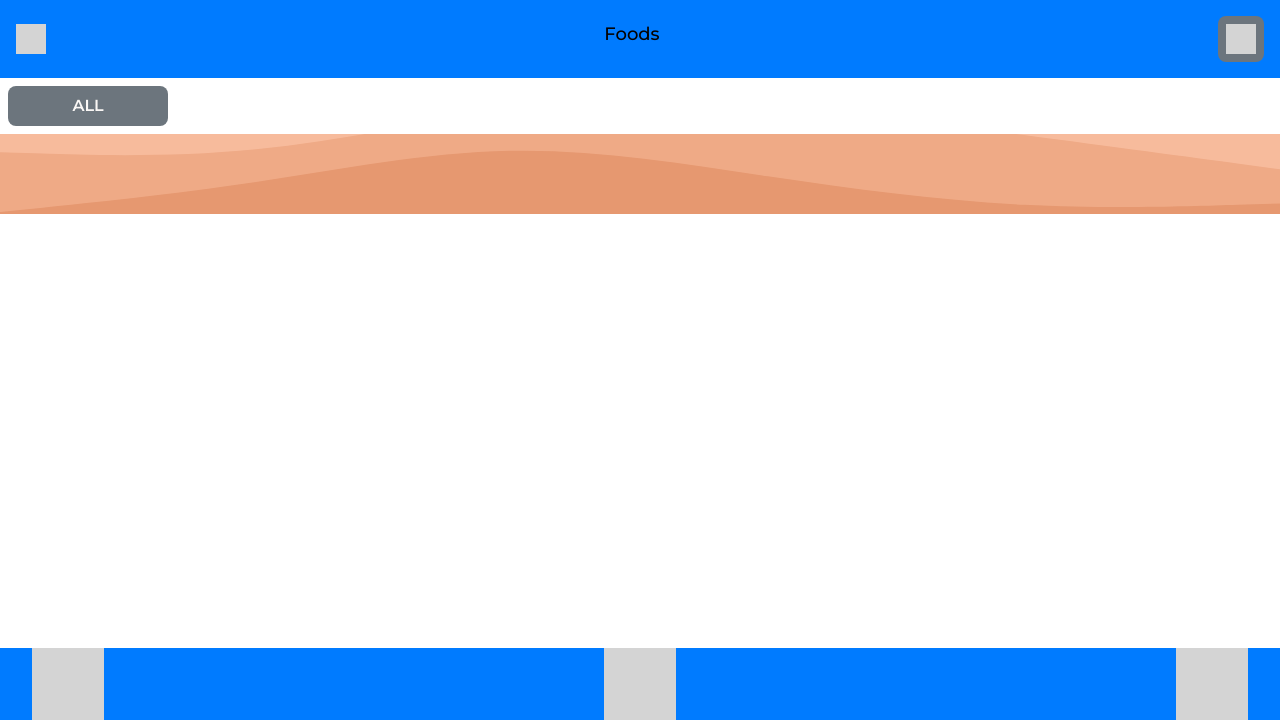
Header na tela Principal › o input de busca aparece e some ao clicar no botão `search`
Click the button with test id "search-top-btn" at (1241, 39), box [1218,16,1264,62]
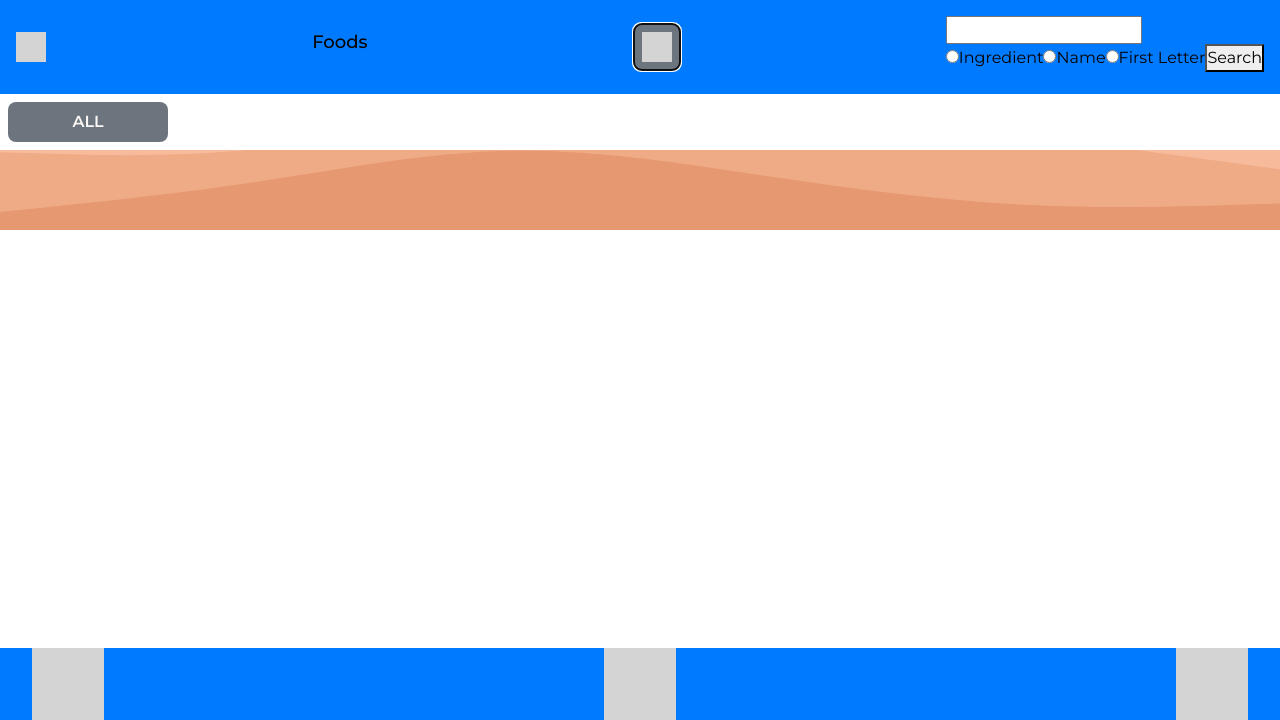
Click the button with test id "search-top-btn" at (657, 47), box [634,24,680,70]
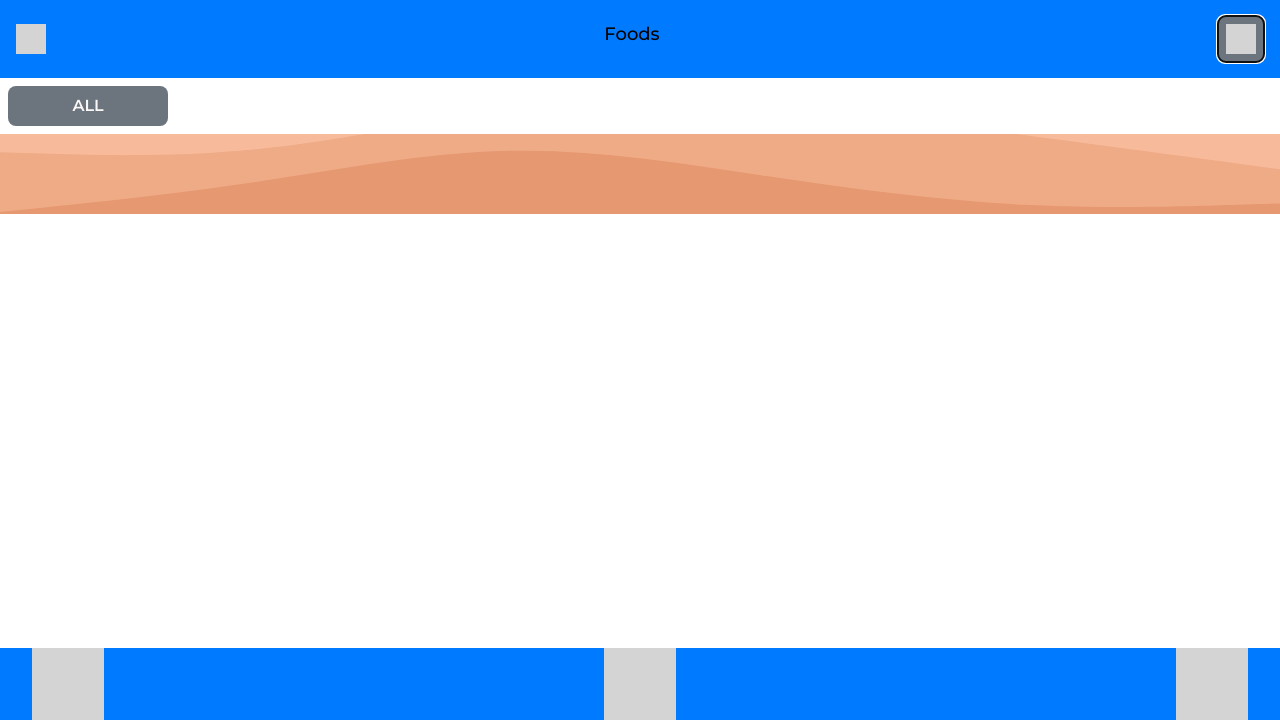
Expected: the field with test id "search-input" is gone
